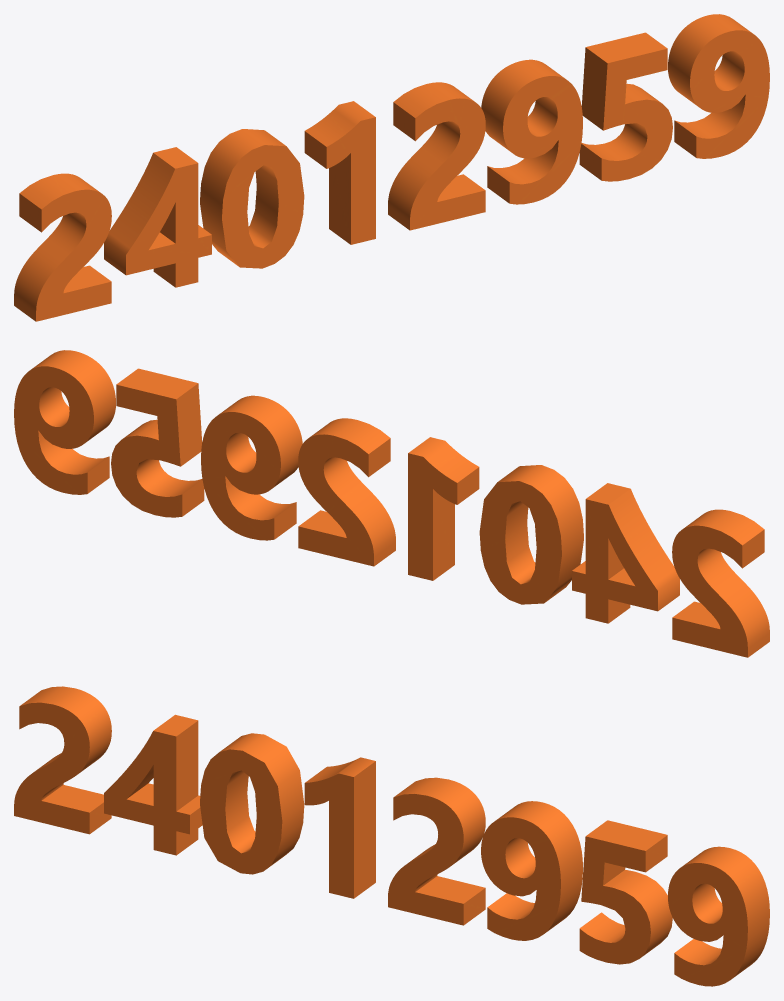
Rendered from Student Number.fbx.
3 views of the same model, one above another, from view 1: azimuth 30°, elevation 25°; view 2: azimuth 150°, elevation 25°; view 3: azimuth 330°, elevation 25° (orthographic).
Parts seen in each view (by area): view 1: node_id26; view 2: node_id26; view 3: node_id26.
Part boxes in pixels (<box>): node_id26: <box>14,14,769,321</box>; node_id26: <box>14,350,769,657</box>; node_id26: <box>14,686,769,986</box>.
Bounding box in the file's own units: 0.862 × 0.1389 × 0.0448.
Materials: 1 (1 with a texture image).
